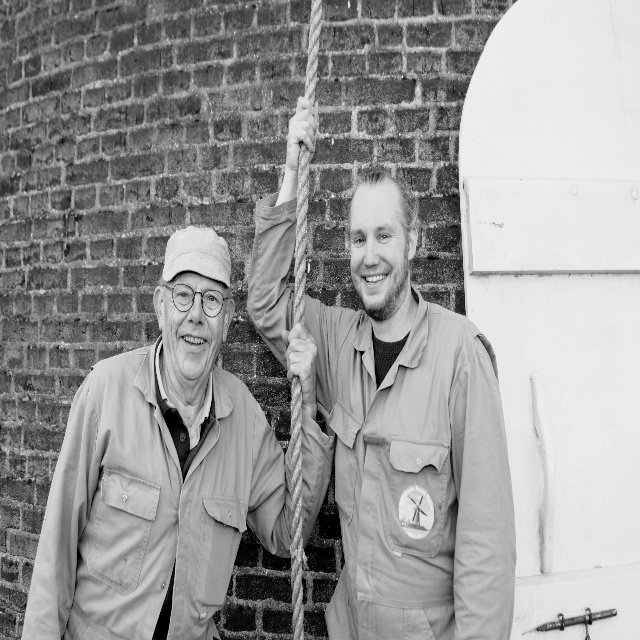Gafas: (171, 283, 224, 318)
Sin_guantes: (280, 325, 318, 399), (286, 95, 320, 166)
